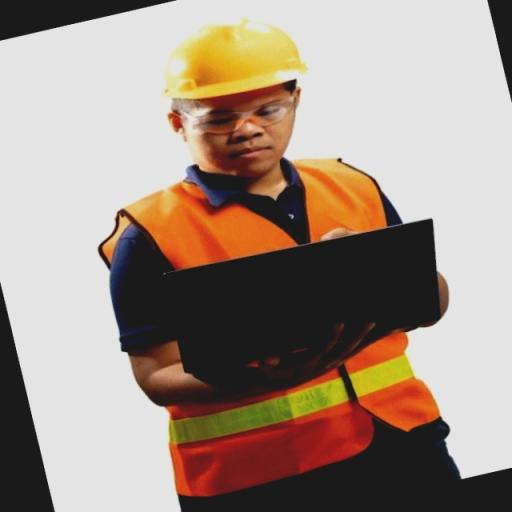Person: (76, 1, 496, 512)
helmet: (158, 12, 314, 101)
vest: (104, 161, 465, 496)
